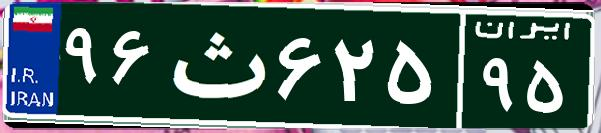2: (330, 28, 385, 110)
5: (385, 28, 445, 110), (525, 38, 570, 115)
6: (273, 28, 330, 110), (110, 28, 158, 105)
9: (57, 26, 110, 107), (475, 38, 525, 113)
ث: (158, 15, 273, 115)
